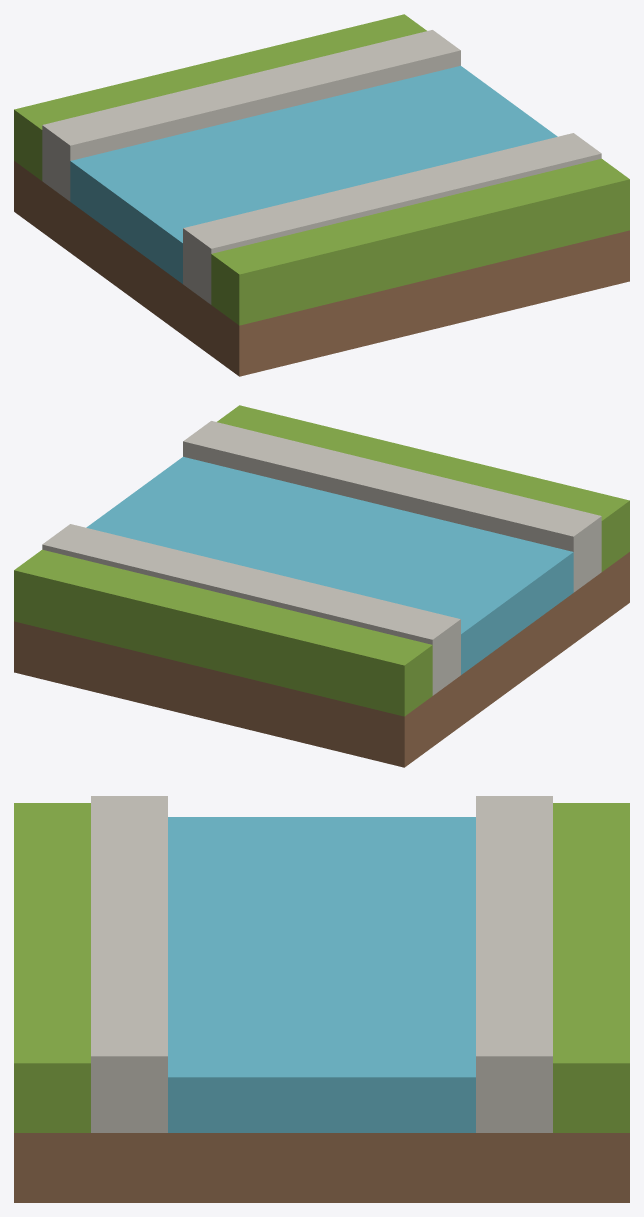
Rendered from canal-straight-low.obj.
The picture shows the model from 3 angles, top to bottom: view 1: azimuth 30°, elevation 25°; view 2: azimuth 150°, elevation 25°; view 3: azimuth 270°, elevation 25°; orthographic projection. The views are drawn at different scales.
Parts seen in each view (by area): view 1: canal-straight-low_Cube.250; view 2: canal-straight-low_Cube.250; view 3: canal-straight-low_Cube.250.
Part boxes in pixels (<box>): canal-straight-low_Cube.250: <box>14,14,629,376</box>; canal-straight-low_Cube.250: <box>14,405,629,767</box>; canal-straight-low_Cube.250: <box>14,796,629,1202</box>.
Size of the model in its own units: 8 by 2.1 by 8.
1 material, 1 textured.
